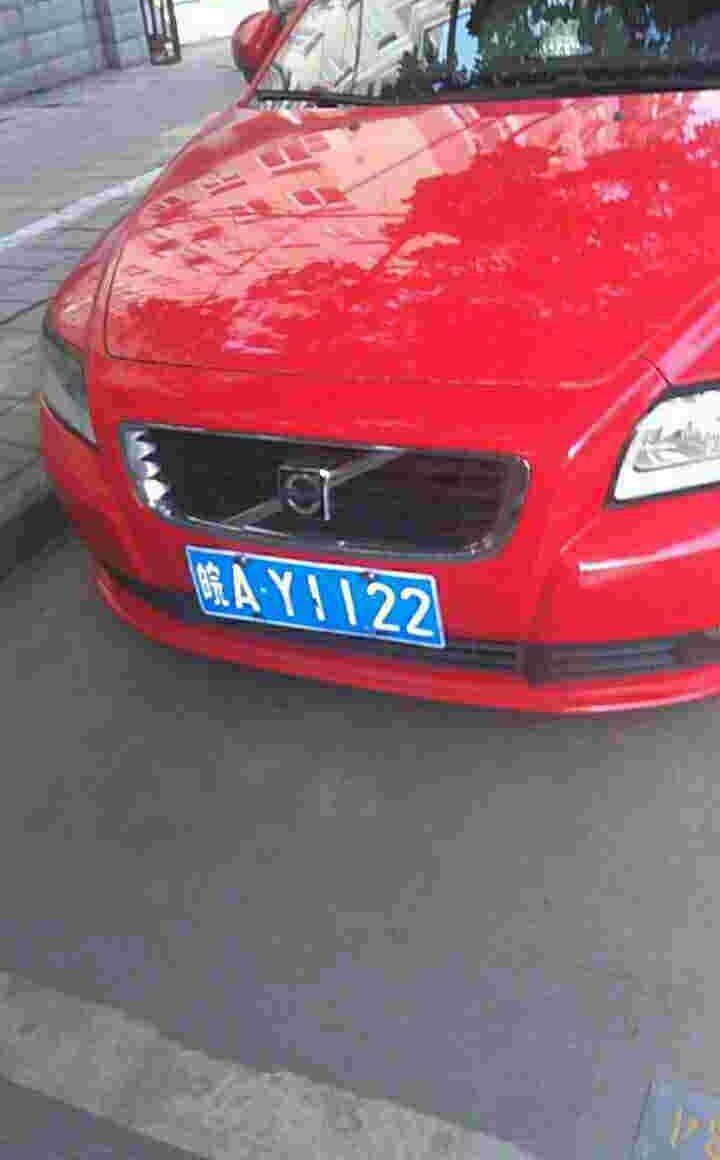license_plate: (194, 547, 455, 651)
